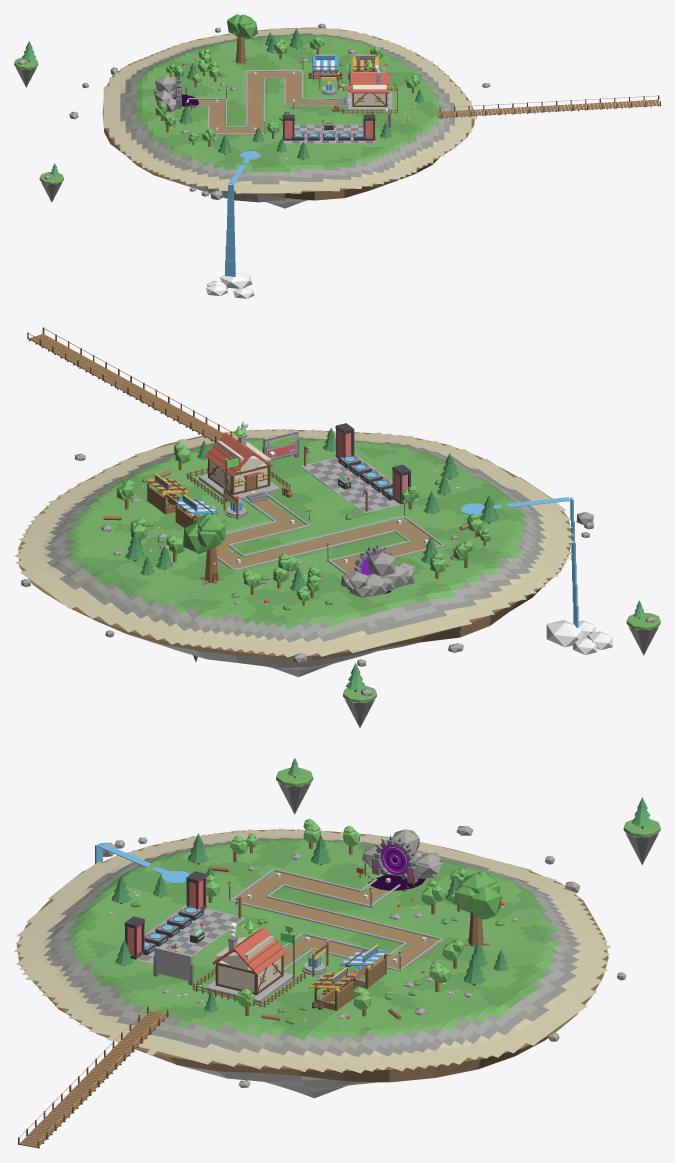
The model's file is Isla2_Bosque.glb.
3 renders of one model, top to bottom at view 1: azimuth 30°, elevation 25°; view 2: azimuth 150°, elevation 25°; view 3: azimuth 270°, elevation 25°, orthographic. The views are drawn at different scales.
Visible parts, largest first — view 1: Isla2_Bosque_Terreno, Isla2_Bosque_Arboles, Isla2_Bosque_Detalles, Isla2_Bosque_Base_Flotante, Isla2_Bosque_Casa, Puente_2, Isla2_Bosque_Palanca_Zona, Isla2_Bosque_Bordes, Isla2_Bosque_Portal, Isla2_Bosque_Monumento, Isla2_Bosque_Rocas, Isla2_Bosque_Tienda_Puesto; view 2: Isla2_Bosque_Terreno, Isla2_Bosque_Arboles, Isla2_Bosque_Base_Flotante, Isla2_Bosque_Detalles, Isla2_Bosque_Casa, Isla2_Bosque_Palanca_Zona, Puente_2, Isla2_Bosque_Portal, Isla2_Bosque_Bordes, Isla2_Bosque_Monumento, Isla2_Bosque_Rocas, Isla2_Bosque_Equipamientos_Puesto (+1 smaller); view 3: Isla2_Bosque_Terreno, Isla2_Bosque_Base_Flotante, Isla2_Bosque_Arboles, Isla2_Bosque_Casa, Puente_2, Isla2_Bosque_Detalles, Isla2_Bosque_Palanca_Zona, Isla2_Bosque_Portal, Isla2_Bosque_Bordes, Isla2_Bosque_Monumento, Isla2_Bosque_Rocas, Isla2_Bosque_Equipamientos_Puesto (+3 smaller).
Boxes of the visible parts, x1,y1,x2,y2 form: Isla2_Bosque_Terreno: [103, 28, 476, 193]; Isla2_Bosque_Arboles: [155, 28, 424, 160]; Isla2_Bosque_Detalles: [14, 41, 387, 298]; Isla2_Bosque_Base_Flotante: [102, 27, 474, 208]; Isla2_Bosque_Casa: [339, 60, 398, 113]; Puente_2: [433, 95, 660, 118]; Isla2_Bosque_Palanca_Zona: [282, 111, 375, 143]; Isla2_Bosque_Bordes: [188, 58, 346, 134]; Isla2_Bosque_Portal: [153, 74, 198, 112]; Isla2_Bosque_Monumento: [227, 14, 257, 64]; Isla2_Bosque_Rocas: [69, 23, 490, 199]; Isla2_Bosque_Tienda_Puesto: [308, 54, 342, 80]; Isla2_Bosque_Terreno: [14, 429, 574, 657]; Isla2_Bosque_Arboles: [116, 428, 498, 605]; Isla2_Bosque_Base_Flotante: [18, 429, 572, 677]; Isla2_Bosque_Detalles: [103, 470, 660, 727]; Isla2_Bosque_Casa: [186, 421, 290, 504]; Isla2_Bosque_Palanca_Zona: [300, 423, 417, 513]; Puente_2: [27, 327, 234, 443]; Isla2_Bosque_Portal: [341, 544, 415, 597]; Isla2_Bosque_Bordes: [217, 493, 443, 573]; Isla2_Bosque_Monumento: [183, 513, 225, 584]; Isla2_Bosque_Rocas: [21, 450, 593, 666]; Isla2_Bosque_Equipamientos_Puesto: [146, 473, 189, 513]; Isla2_Bosque_Terreno: [14, 828, 610, 1073]; Isla2_Bosque_Base_Flotante: [16, 829, 608, 1098]; Isla2_Bosque_Arboles: [111, 819, 508, 1016]; Isla2_Bosque_Casa: [192, 919, 305, 1007]; Puente_2: [18, 1002, 171, 1148]; Isla2_Bosque_Detalles: [57, 758, 660, 1020]; Isla2_Bosque_Palanca_Zona: [117, 871, 244, 963]; Isla2_Bosque_Portal: [362, 829, 442, 891]; Isla2_Bosque_Bordes: [228, 868, 443, 971]; Isla2_Bosque_Monumento: [454, 871, 501, 946]; Isla2_Bosque_Rocas: [103, 826, 626, 1087]; Isla2_Bosque_Equipamientos_Puesto: [309, 967, 356, 1010].
Bounding box in the file's own units: 168 × 46.1 × 115.
1 material, 1 textured.
